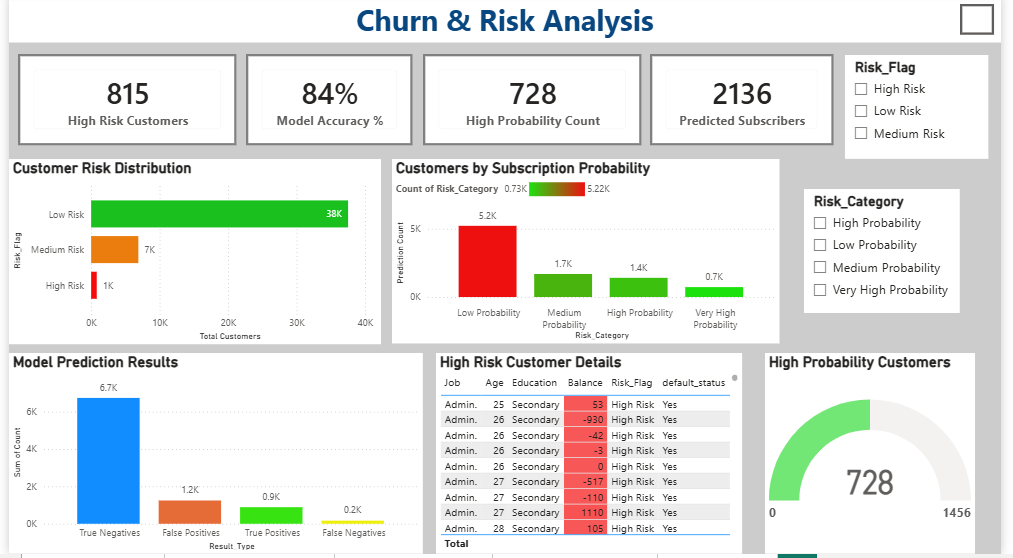

The page's visual inventory and layout, read from the dashboard file:
{"tool":"powerbi","page":{"name":"Churn & Risk Analysis","canvas":[1280,720],"ordinal":2},"visuals":[{"type":"textbox","box":[0,0,1279.8,59.5],"z":0},{"type":"cardVisual","fields":{"Data":["_Measures.High Risk Customers"]},"box":[11.3,75.1,282,117.6],"z":1000},{"type":"cardVisual","fields":{"Data":["_Measures.Model Accuracy %"]},"box":[306.1,75.1,215.4,117.6],"z":2000},{"type":"cardVisual","fields":{"Data":["_Measures.High Probability Count"]},"box":[534.3,75.1,282,117.6],"z":3000},{"type":"cardVisual","fields":{"Data":["_Measures.Predicted Subscribers"]},"box":[827.7,75.1,236.7,117.6],"z":4000},{"type":"clusteredBarChart","title":"Customer Risk Distribution","fields":{"Y":["_Measures.Total Customers"],"Category":["Bank_Customers.Risk_Flag"]},"box":[0,210.3,480,238.7],"z":5000},{"type":"clusteredColumnChart","title":"Customers by Subscription Probability","fields":{"Category":["churn_predictions.Risk_Category"],"Y":["_Measures.Prediction Count"]},"box":[494.6,209.8,500.3,238.1],"z":6000},{"type":"tableEx","title":"High Risk Customer Details","fields":{"Values":["Bank_Customers.Job","Bank_Customers.Age","Bank_Customers.Education","Bank_Customers.Balance","Bank_Customers.Risk_Flag","Bank_Customers.default_status"]},"box":[551.3,460.6,395.4,259.4],"z":7000},{"type":"gauge","title":"High Probability Customers","fields":{"Y":["_Measures.High Probability Count"]},"box":[975.1,460.6,270.7,259.4],"z":8000},{"type":"slicer","fields":{"Values":["Bank_Customers.Risk_Flag"]},"box":[1078.6,141.7,184.3,134.6],"z":9000},{"type":"slicer","fields":{"Values":["churn_predictions.Risk_Category"]},"box":[1030.4,287.7,201.3,160.2],"z":10000},{"type":"clusteredColumnChart","title":"Model Prediction Results","fields":{"Category":["Prediction_Summary.Result_Type"],"Y":["Sum(Prediction_Summary.Count)"]},"box":[0,460.6,534.3,259.4],"z":11000},{"type":"actionButton","box":[1227.4,9.9,43.9,39.7],"z":11001}]}

Visuals, with their boxes in screenshot pixels (x1, y1, x2, y2), scaled from the page's 1280x720 canvas onto the 1013x558 screenshot:
textbox: <region>0, 0, 1012, 46</region>
cardVisual - _Measures.High Risk Customers: <region>9, 58, 232, 149</region>
cardVisual - _Measures.Model Accuracy %: <region>242, 58, 413, 149</region>
cardVisual - _Measures.High Probability Count: <region>423, 58, 646, 149</region>
cardVisual - _Measures.Predicted Subscribers: <region>655, 58, 842, 149</region>
"Customer Risk Distribution" clusteredBarChart: <region>0, 163, 380, 348</region>
"Customers by Subscription Probability" clusteredColumnChart: <region>391, 163, 787, 347</region>
"High Risk Customer Details" tableEx: <region>436, 357, 749, 557</region>
"High Probability Customers" gauge: <region>772, 357, 986, 557</region>
slicer - Bank_Customers.Risk_Flag: <region>854, 110, 999, 214</region>
slicer - churn_predictions.Risk_Category: <region>815, 223, 975, 347</region>
"Model Prediction Results" clusteredColumnChart: <region>0, 357, 423, 557</region>
actionButton: <region>971, 8, 1006, 38</region>
